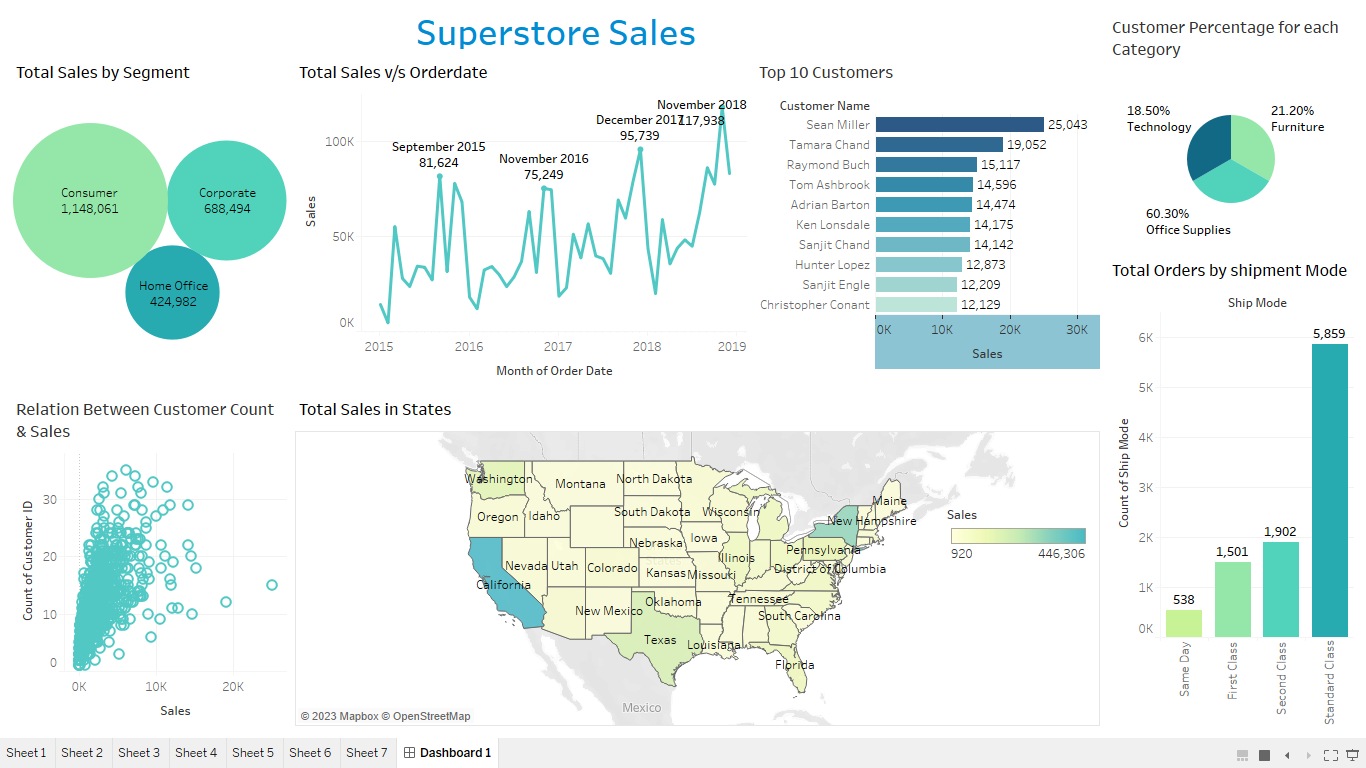

What the dashboard file says about the page in this screenshot:
{"tool":"tableau","page":{"name":"Dashboard 1","canvas":[1000,1000],"units":"permille","ordinal":0},"visuals":[{"type":"title","box":[6,13.5,798.5,76]},{"type":"worksheet","title":"Sheet 4","mark":"Pie","box":[804.5,13.5,189.6,410.5]},{"type":"worksheet","title":"Sheet 5","mark":"Circle","box":[6,89.5,205.9,446.7]},{"type":"worksheet","title":"Sheet 1","mark":"Automatic","rows":["Sales"],"cols":["Order_Date"],"box":[211.8,89.5,335.6,447.2]},{"type":"worksheet","title":"Sheet 6","mark":"Automatic","rows":["Customer_Name"],"cols":["Sales"],"box":[547.4,89.5,257,447.2]},{"type":"worksheet","title":"Sheet 2","mark":"Automatic","rows":["Ship_Mode"],"cols":["Ship_Mode"],"box":[804.5,424,189.6,562.5]},{"type":"worksheet","title":"Sheet 7","mark":"Automatic","rows":["Customer_ID"],"cols":["Sales"],"box":[6,536.2,205.9,450.3]},{"type":"worksheet","title":"Sheet 3","mark":"Multipolygon","box":[211.8,536.7,592.6,449.8]},{"type":"legend","title":"Sheet 3","param":"[federated.12qjc2l0bbljvh18zscmr0f8o07q].[sum:Sales:qk]","box":[693.3,685.8,104.5,128.4]}]}

Visuals, with their boxes on the dashboard's canvas, which has no fixed pixel size, in thousandths of its width and height (x1, y1, x2, y2). These are canvas units, not pixel positions in the 1366x768 screenshot, which may show the page scaled, cropped or inside an application window:
title: pyautogui.locateOnScreen(6, 14, 804, 90)
"Sheet 4" worksheet (Pie marks): pyautogui.locateOnScreen(804, 14, 994, 424)
"Sheet 5" worksheet (Circle marks): pyautogui.locateOnScreen(6, 90, 212, 536)
"Sheet 1" worksheet: pyautogui.locateOnScreen(212, 90, 547, 537)
"Sheet 6" worksheet: pyautogui.locateOnScreen(547, 90, 804, 537)
"Sheet 2" worksheet: pyautogui.locateOnScreen(804, 424, 994, 986)
"Sheet 7" worksheet: pyautogui.locateOnScreen(6, 536, 212, 986)
"Sheet 3" worksheet (Multipolygon marks): pyautogui.locateOnScreen(212, 537, 804, 986)
"Sheet 3" legend: pyautogui.locateOnScreen(693, 686, 798, 814)
